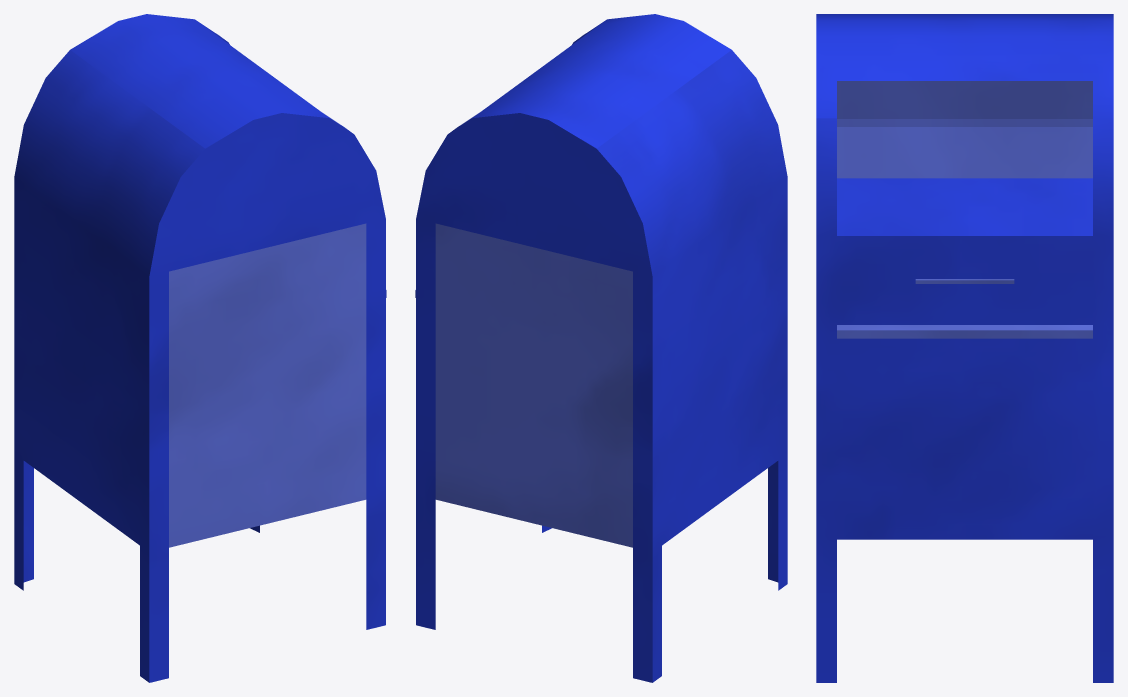
Rendered from SM_PostBox.fbx.
The picture shows the model from 3 angles, left to right: view 1: azimuth 30°, elevation 25°; view 2: azimuth 150°, elevation 25°; view 3: azimuth 270°, elevation 25°; orthographic projection. The views are drawn at different scales.
Visible parts, largest first — view 1: SM_PostBox; view 2: SM_PostBox; view 3: SM_PostBox.
Boxes of the visible parts, x1,y1,x2,y2 form: SM_PostBox: [14, 14, 386, 682]; SM_PostBox: [415, 14, 787, 682]; SM_PostBox: [816, 14, 1113, 682].
Size of the model in its own units: 0.6303 by 1.31 by 0.5985.
